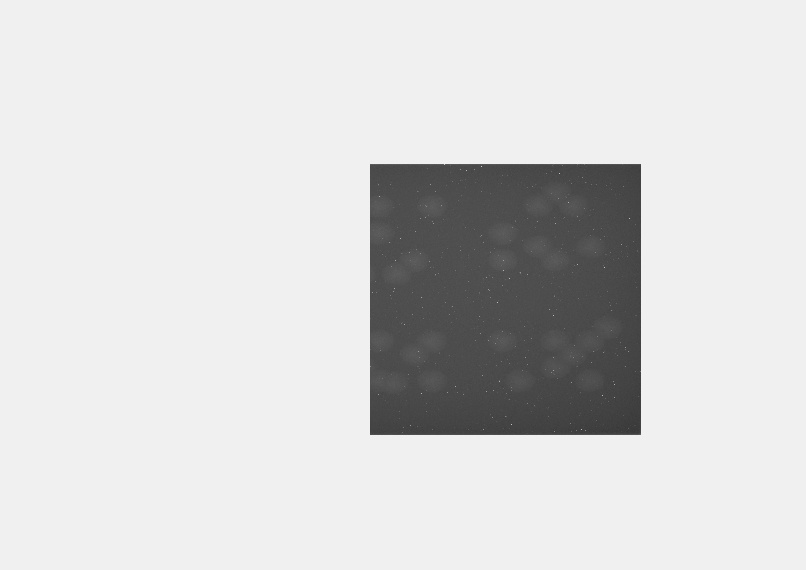cluster: (487, 182, 605, 273), (489, 316, 622, 390), (369, 194, 447, 285), (369, 327, 448, 392)
